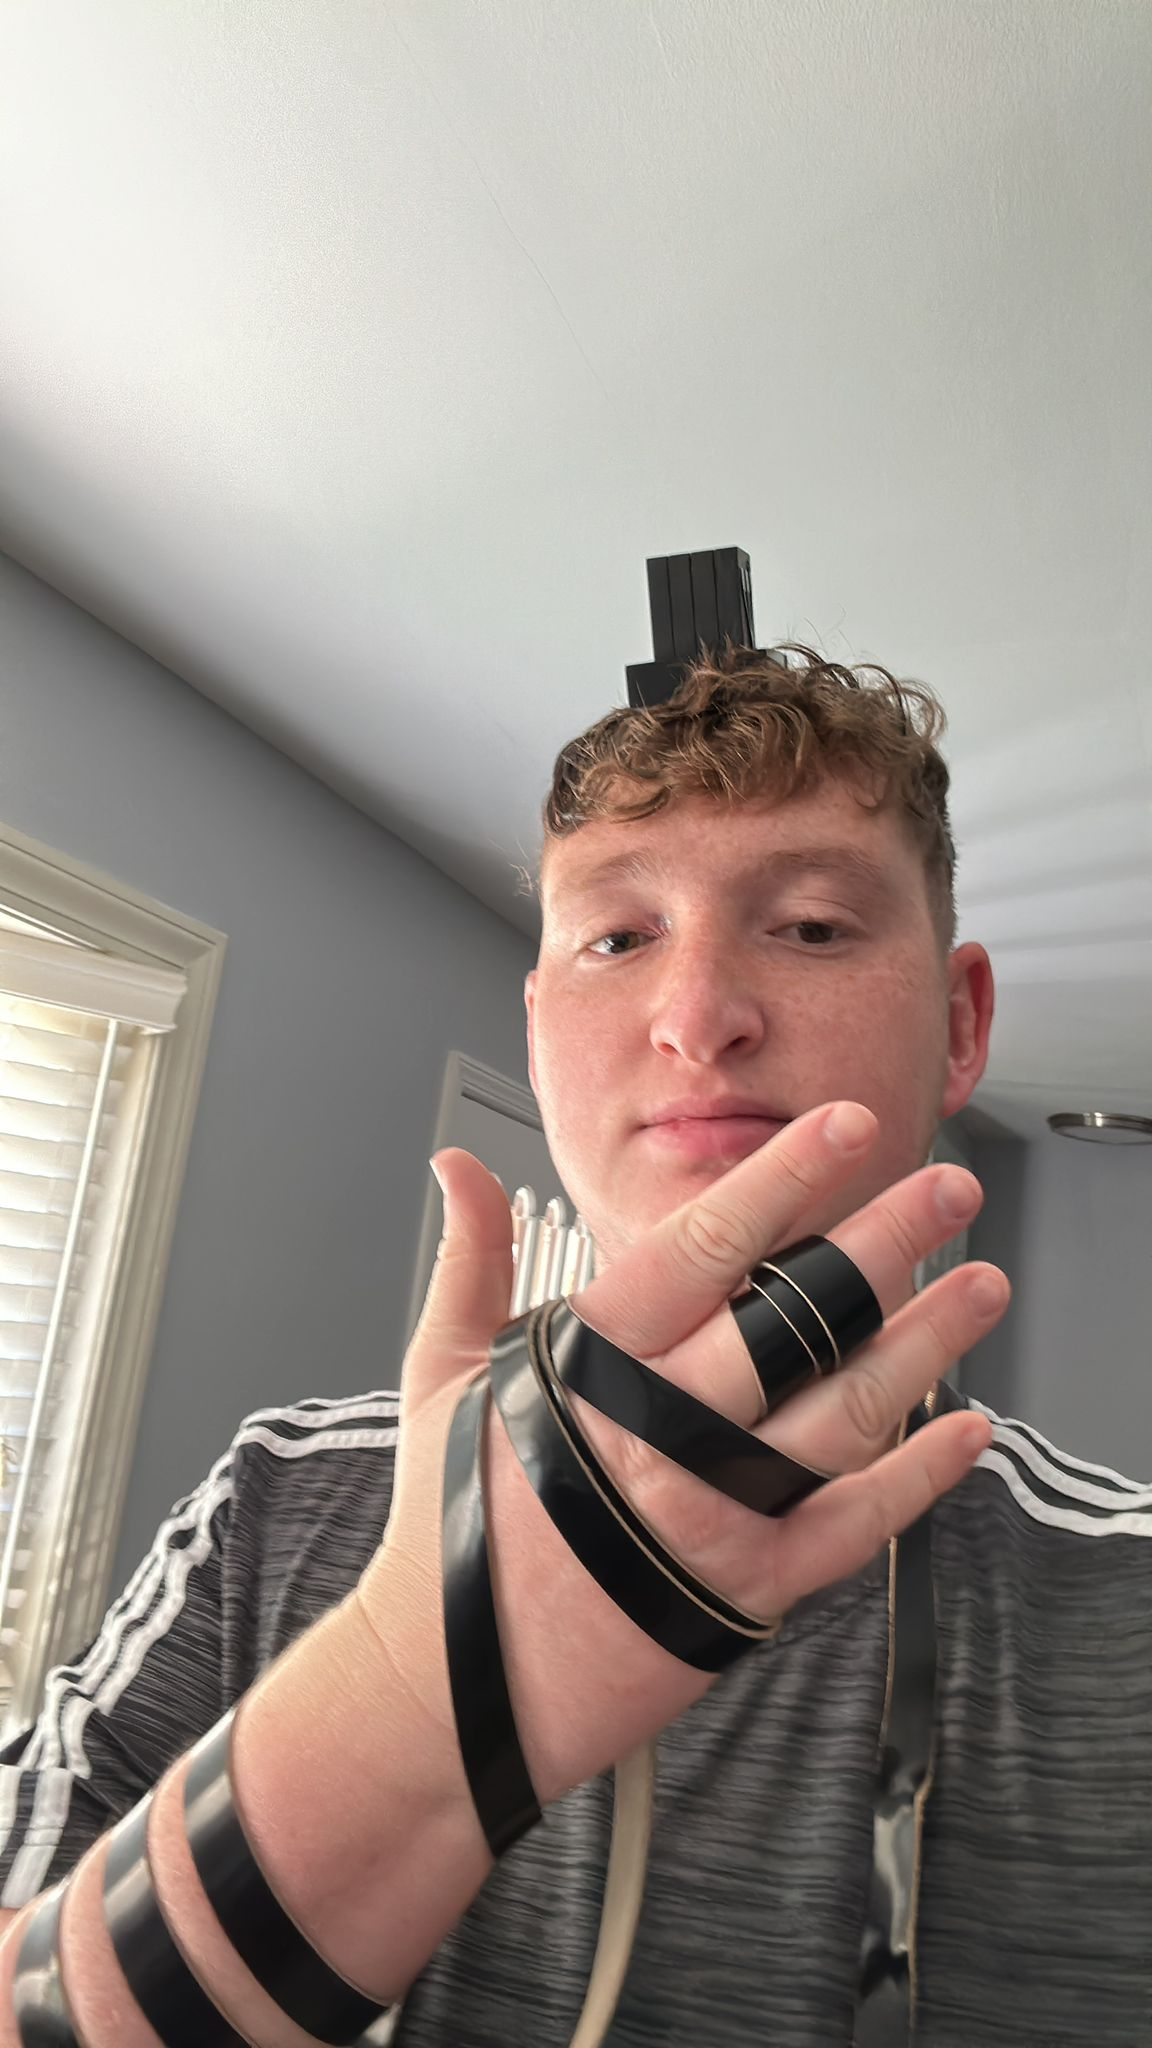tefillin: (620, 550, 786, 712)
